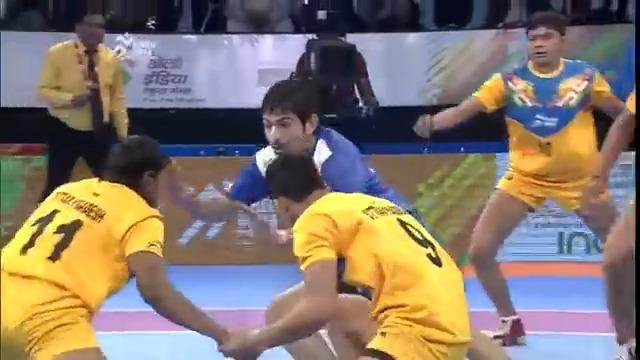Player: (412, 10, 630, 347), (217, 150, 481, 359), (0, 133, 236, 358)
Raider: (219, 76, 425, 226)
referee: (36, 11, 130, 202)
